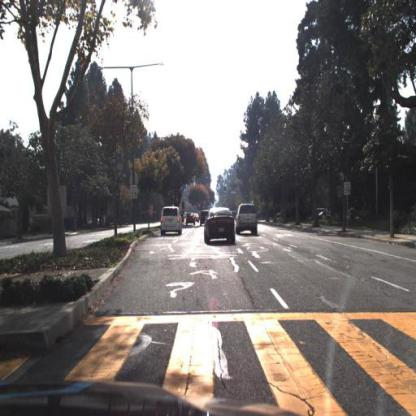car: (204, 206, 238, 246), (160, 206, 183, 241), (237, 203, 260, 237), (200, 209, 214, 230), (188, 213, 198, 229)
